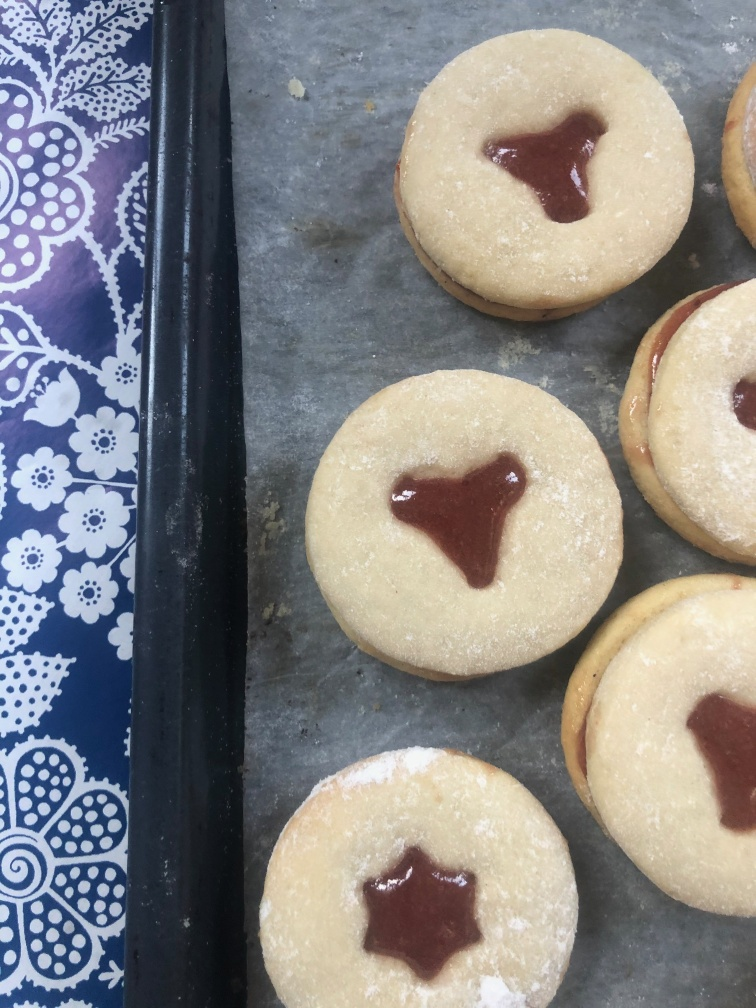christmas shortbread with jam: (306, 361, 625, 675), (261, 739, 590, 1007), (394, 28, 694, 318), (558, 567, 756, 920), (620, 279, 755, 565)
